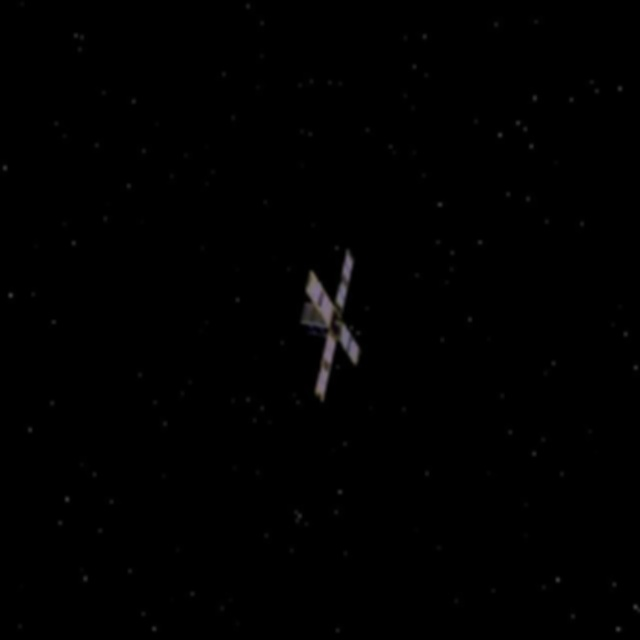medium_debris: (288, 250, 379, 402)
